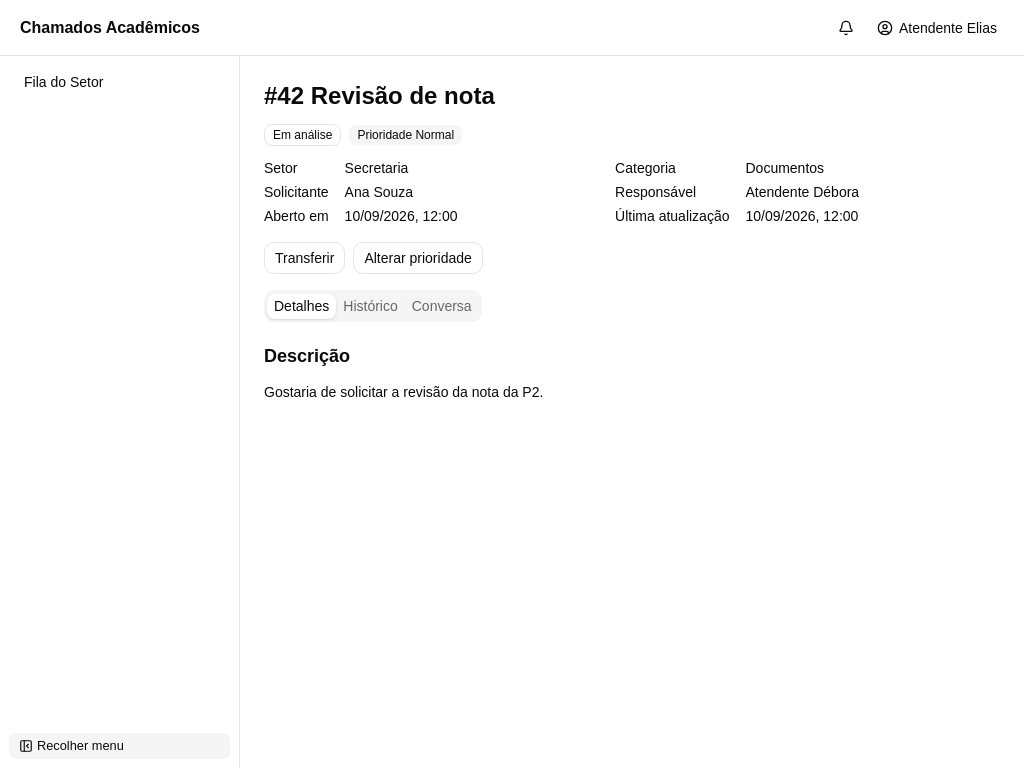
Test: ConversationTab (Tela 5, US1.4, BR5.1) › drops the tab and puts the focus back on Detalhes when the read answers 404 (BR5.1)
Click the tab with test id "ticket-tabs-conversation-tab".
click(442, 306)  # box [405,294,479,318]
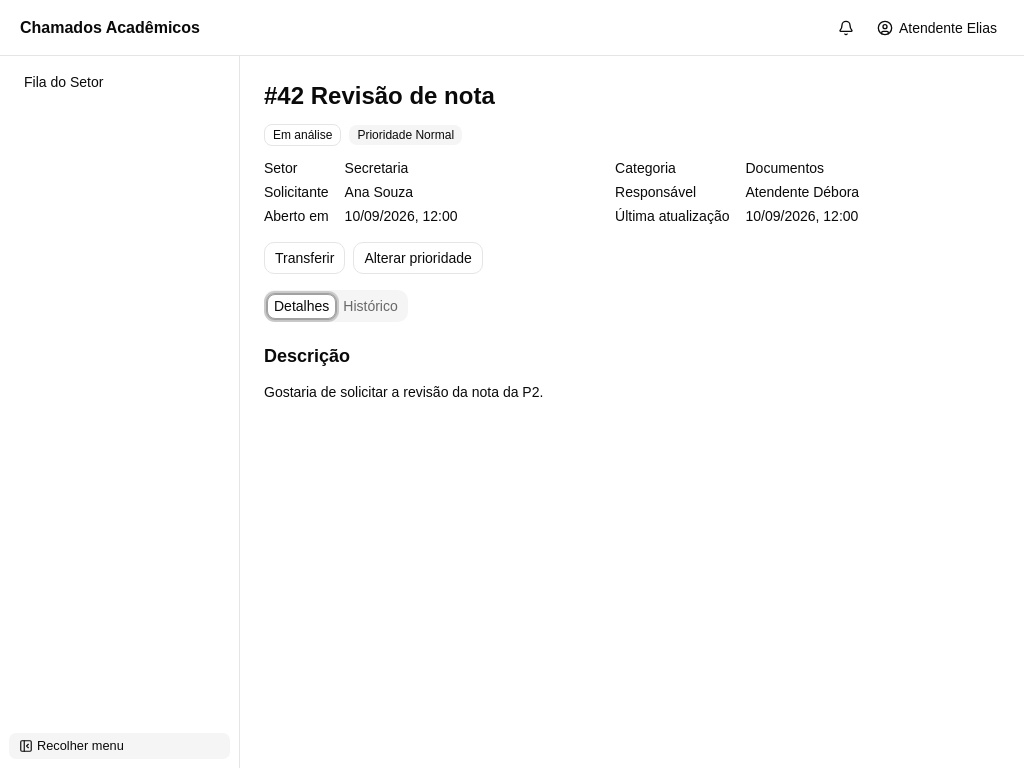
Expected: the element with test id "ticket-details-tab" is shown, [264,346,543,400]
Expected: the tab with test id "ticket-tabs-conversation-tab" is gone
